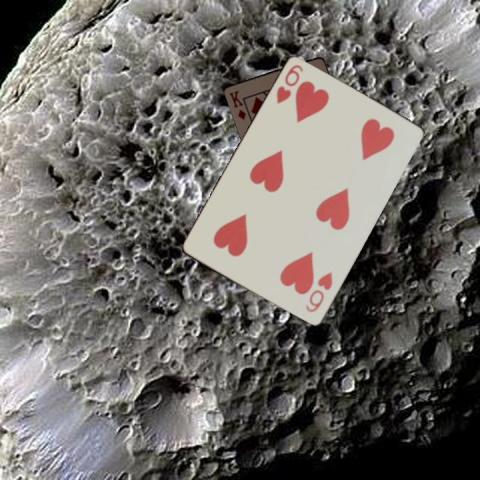6h: (302, 269, 334, 315), (273, 62, 304, 106)
Kd: (226, 88, 247, 122)
